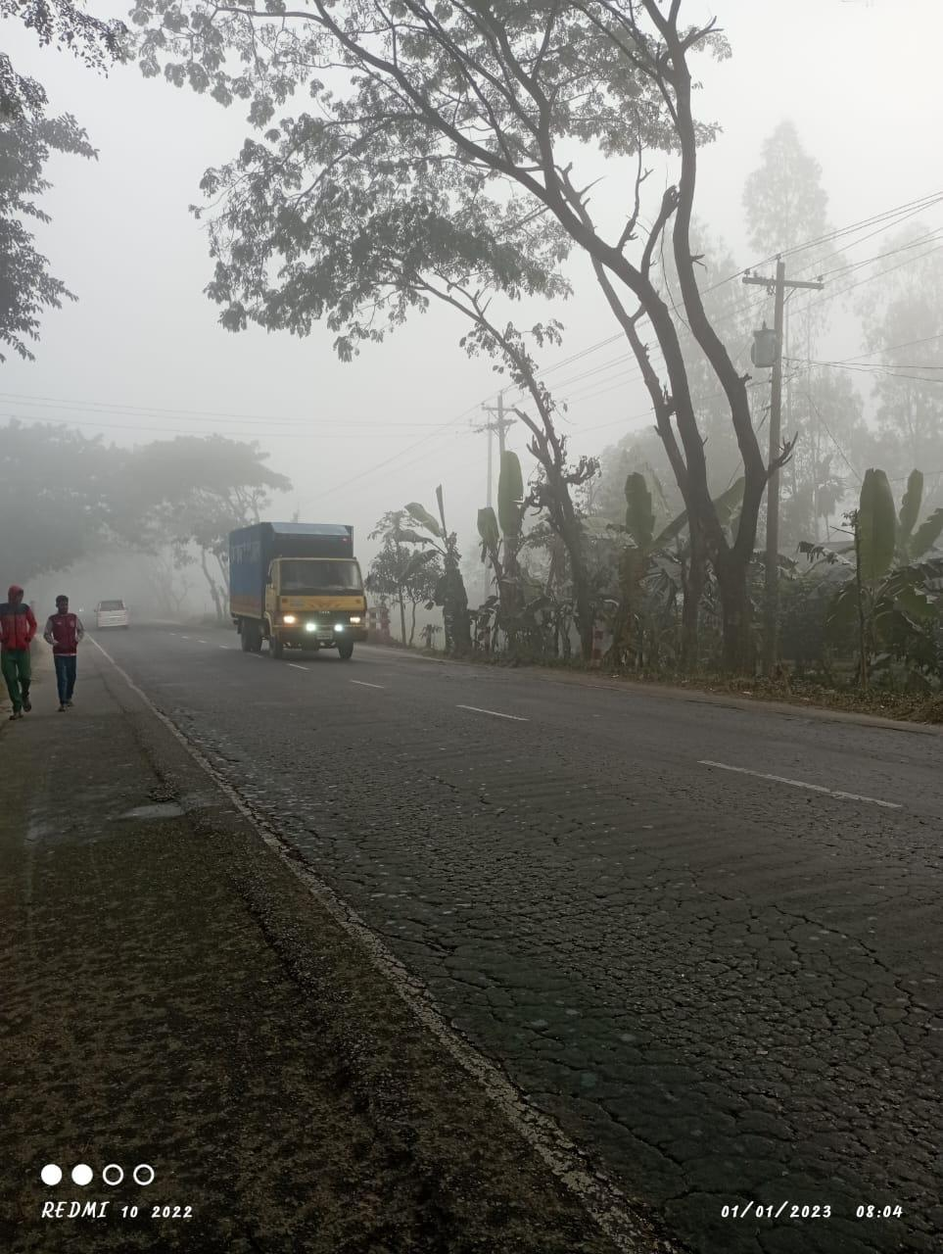Car: (86, 596, 145, 642)
Truck: (212, 513, 380, 683)
